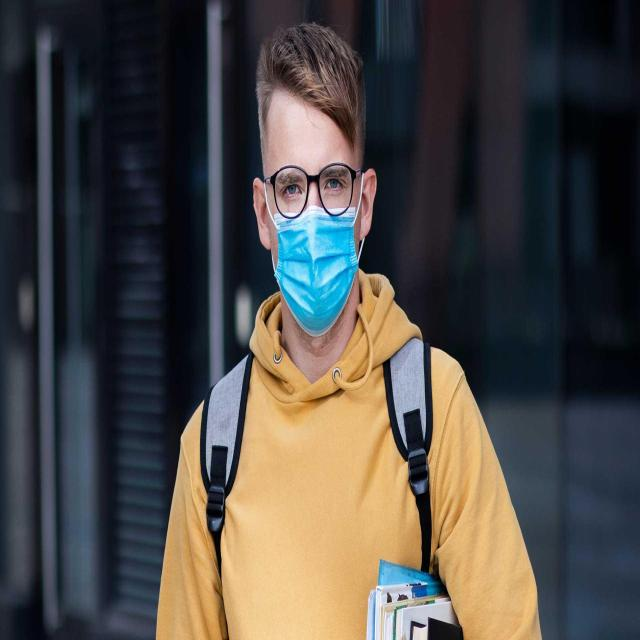Mask: (272, 205, 357, 329)
